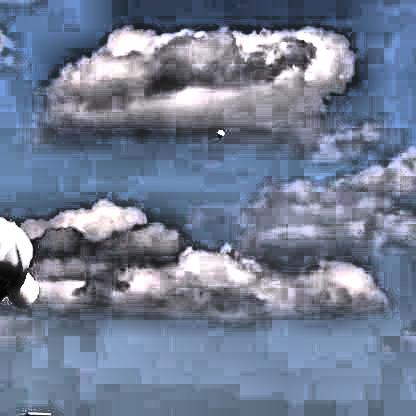golfball: (216, 127, 225, 139)
